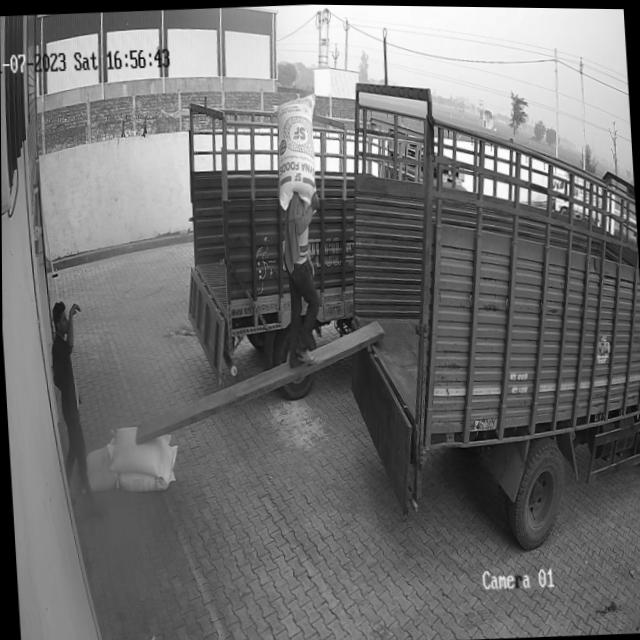sack: (273, 93, 321, 210), (106, 420, 172, 477), (115, 443, 179, 497), (83, 441, 119, 496)
